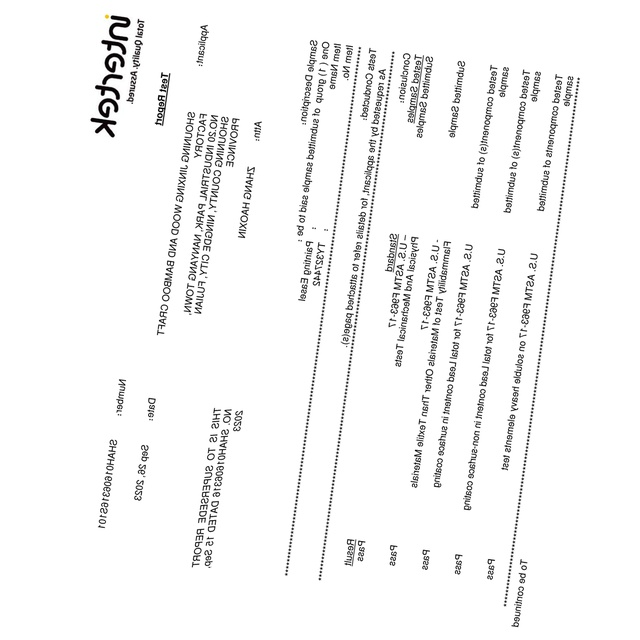intertek: (92, 10, 130, 144)
